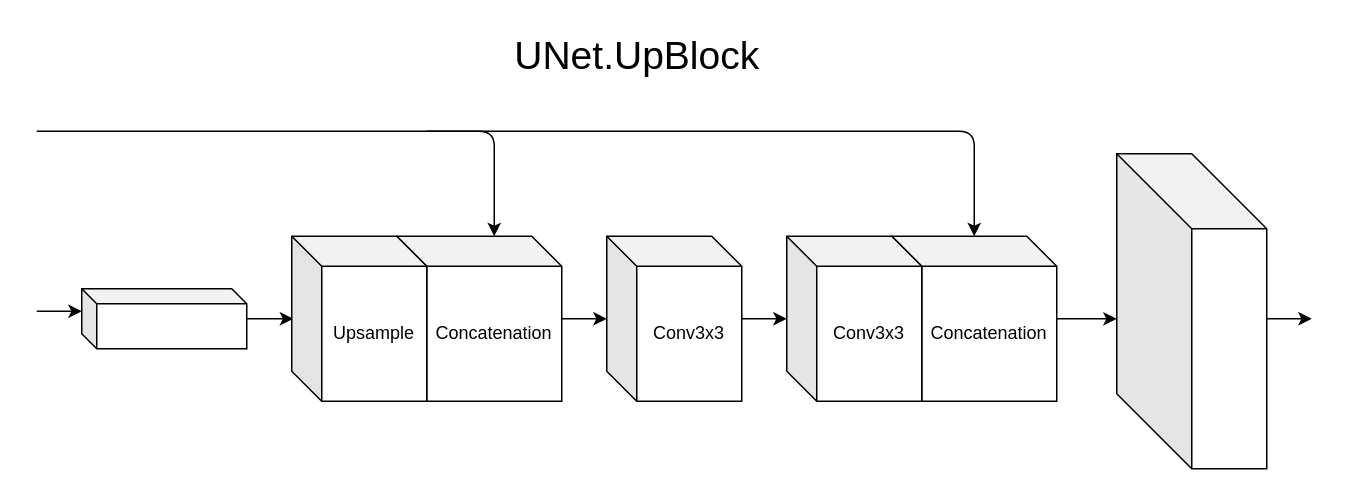
Image size: 1350x495. Some labels were removed from this diagram. Here are the shapes that lost their labels. From the top down, the box of each, then its label:
(80, 287, 247, 349): Input
(1115, 152, 1267, 469): ConvTranspose4x4
